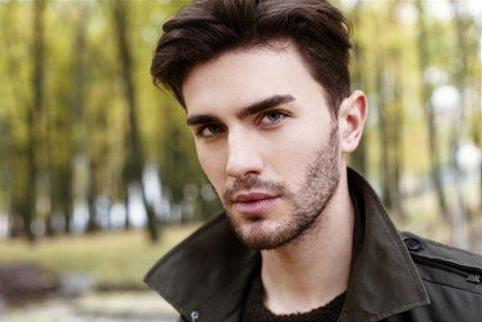Sober: (188, 57, 332, 221)
